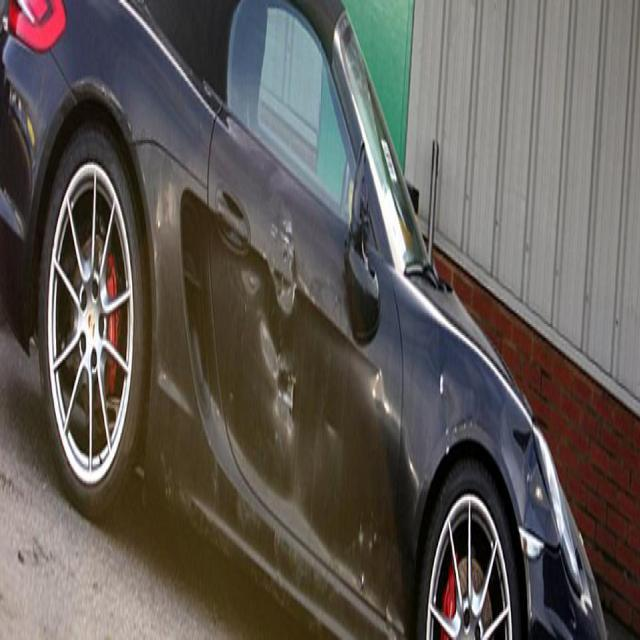dent: (250, 185, 310, 488)
